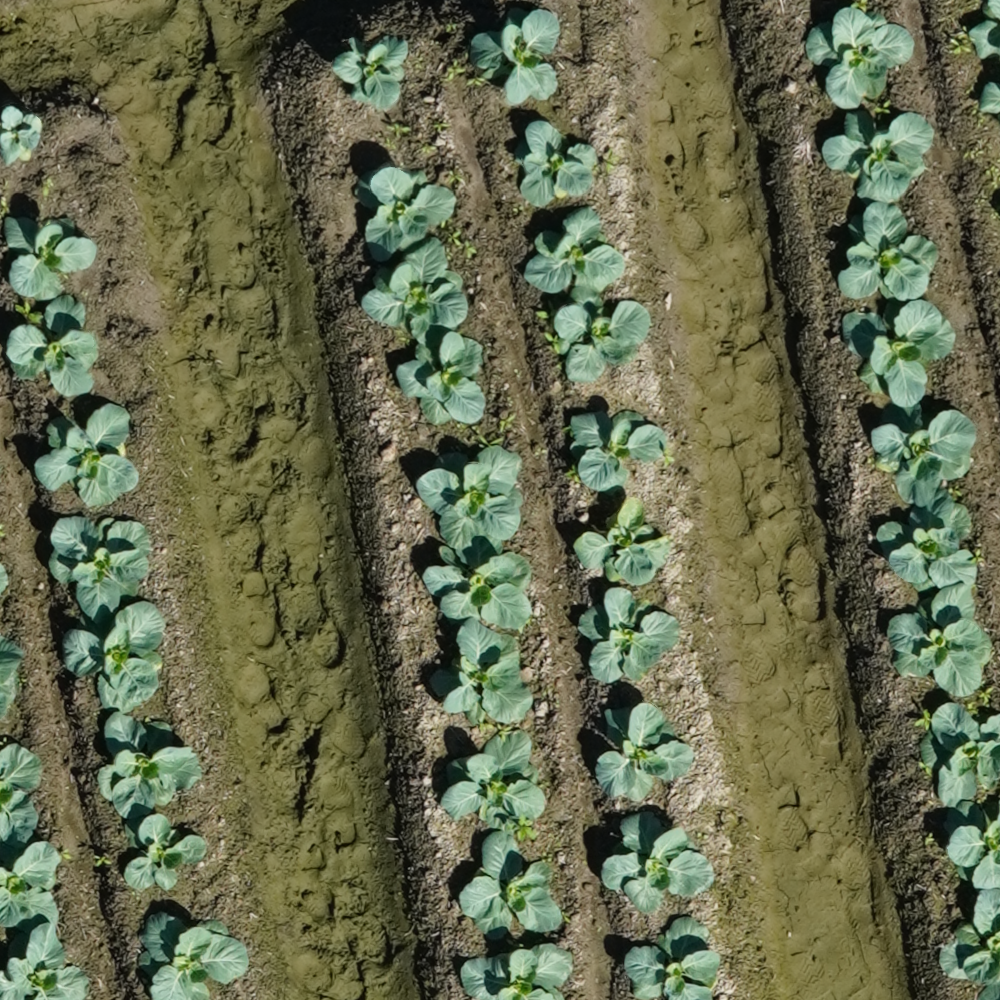Cabbage: (888, 582, 991, 701), (60, 601, 166, 715), (844, 298, 953, 408), (602, 809, 713, 916), (48, 515, 154, 626), (362, 236, 467, 348), (459, 830, 562, 941), (417, 446, 524, 551), (806, 7, 914, 111), (430, 619, 533, 728), (875, 489, 977, 599), (440, 726, 546, 831), (34, 404, 139, 509), (98, 713, 200, 821), (821, 107, 932, 205), (871, 403, 977, 505), (423, 536, 531, 632), (137, 909, 250, 1000), (839, 202, 940, 303), (594, 703, 695, 801), (579, 587, 680, 684), (7, 293, 99, 397), (359, 166, 456, 261), (557, 287, 650, 383), (572, 496, 670, 587), (471, 7, 560, 107), (525, 207, 626, 295), (397, 330, 487, 425), (921, 704, 1000, 809), (623, 917, 722, 1000), (3, 214, 97, 301), (570, 411, 667, 492), (518, 121, 598, 209), (940, 884, 1000, 1000), (0, 924, 90, 1000), (461, 942, 573, 1000), (124, 814, 207, 891), (0, 837, 61, 939), (333, 35, 408, 112), (0, 735, 46, 849), (945, 799, 1000, 890), (0, 105, 42, 166), (968, 0, 1000, 59)
